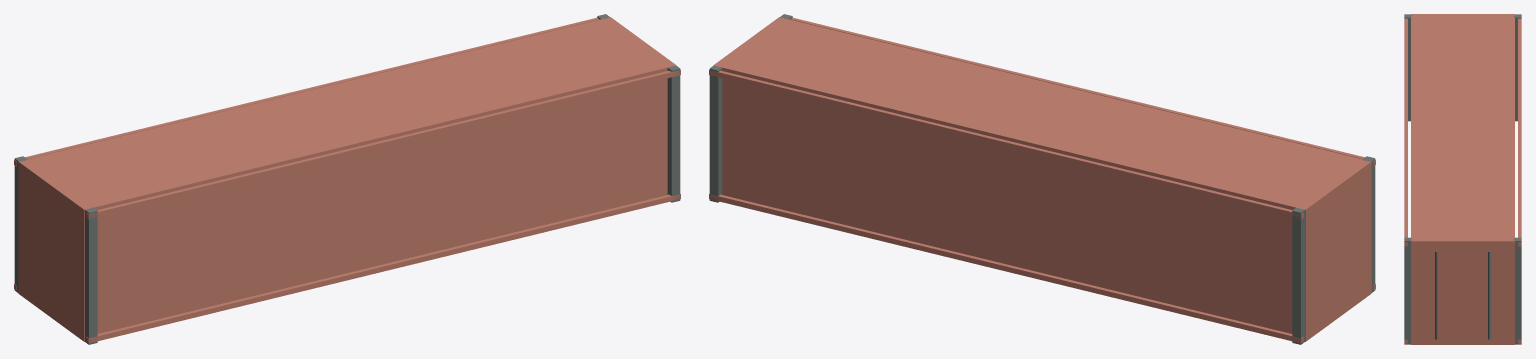
The model's file is container-0.glb.
3 renders of one model, left to right at view 1: azimuth 30°, elevation 25°; view 2: azimuth 150°, elevation 25°; view 3: azimuth 270°, elevation 25°, orthographic. The views are drawn at different scales.
Size of the model in its own units: 12.36 by 2.6 by 2.66.
